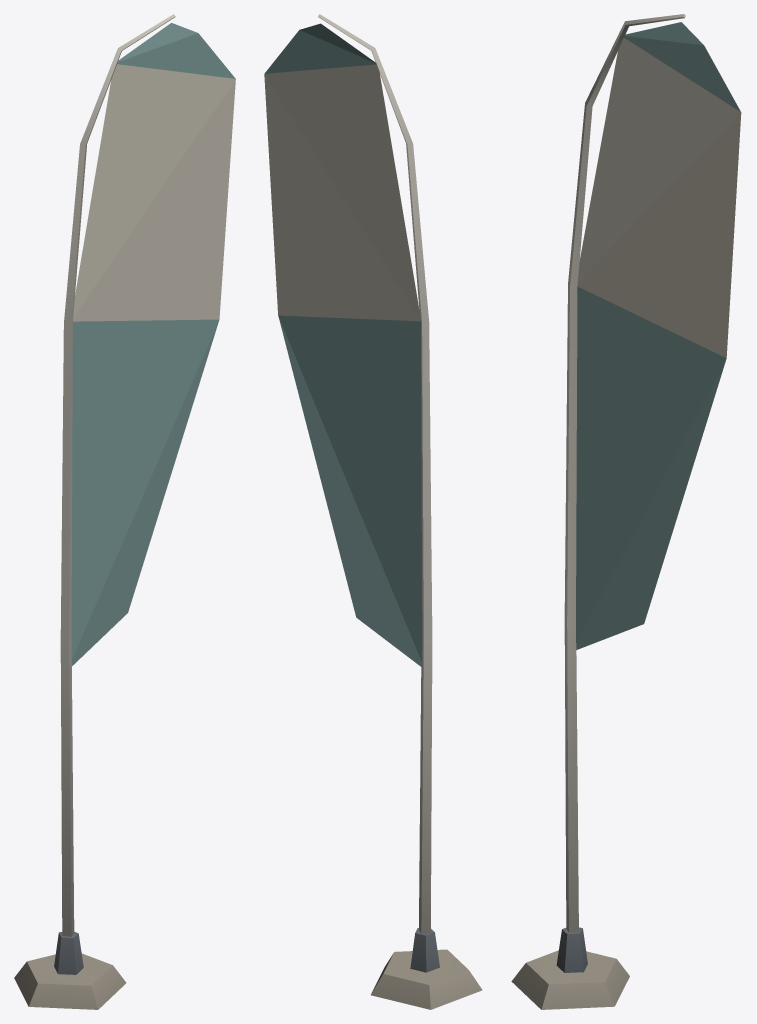
Rendered from flag.lod1.glb.
3 renders of one model, left to right at view 1: azimuth 30°, elevation 25°; view 2: azimuth 150°, elevation 25°; view 3: azimuth 330°, elevation 25°, orthographic. The views are drawn at different scales.
Bounding box in the file's own units: 1.4 × 5.98 × 0.6152.
